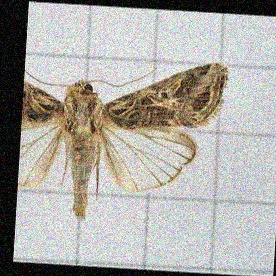Spodoptera litura: (20, 57, 226, 226)
